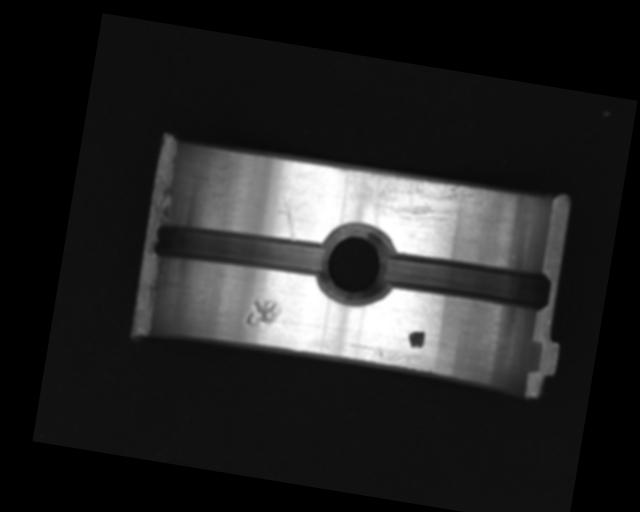blot: (406, 328, 427, 350)
bruise: (244, 297, 282, 330)
gap: (151, 215, 330, 287), (383, 248, 553, 313)
hole: (311, 219, 399, 310)
nick: (274, 187, 305, 241)
scratch: (328, 162, 491, 239)
